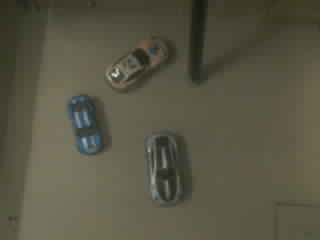Car: (105, 37, 168, 92), (145, 131, 183, 205), (67, 93, 104, 154)
